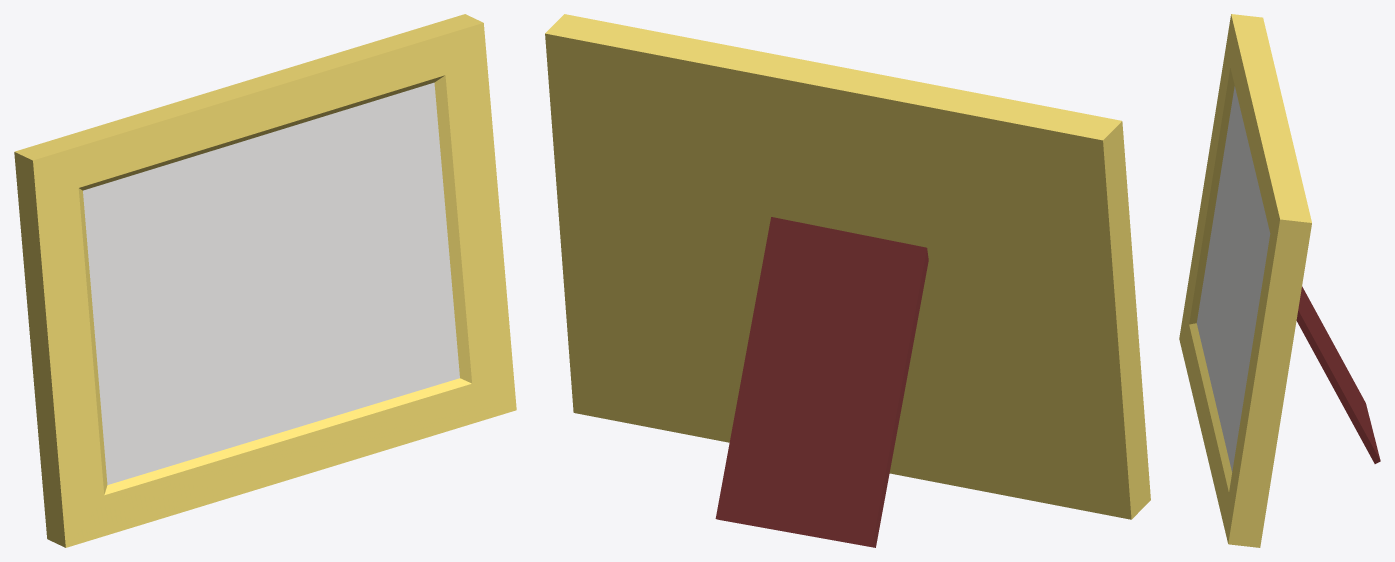
Rendered from Photoframe_5.fbx.
3 views of the same model, side by side, from view 1: azimuth 30°, elevation 25°; view 2: azimuth 150°, elevation 25°; view 3: azimuth 270°, elevation 25° (orthographic). The views are drawn at different scales.
Parts seen in each view (by area): view 1: Photoframe_5; view 2: Photoframe_5; view 3: Photoframe_5.
Part boxes in pixels (left/top/right/bottom): Photoframe_5: left=14, top=14, right=516, bottom=547; Photoframe_5: left=545, top=14, right=1150, bottom=547; Photoframe_5: left=1179, top=14, right=1380, bottom=547.
Size of the model in its own units: 12.83 by 5.26 by 9.46.
